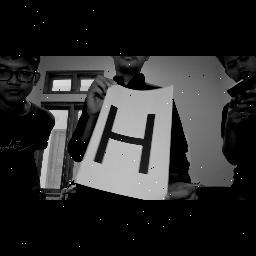h: (88, 101, 162, 187)
